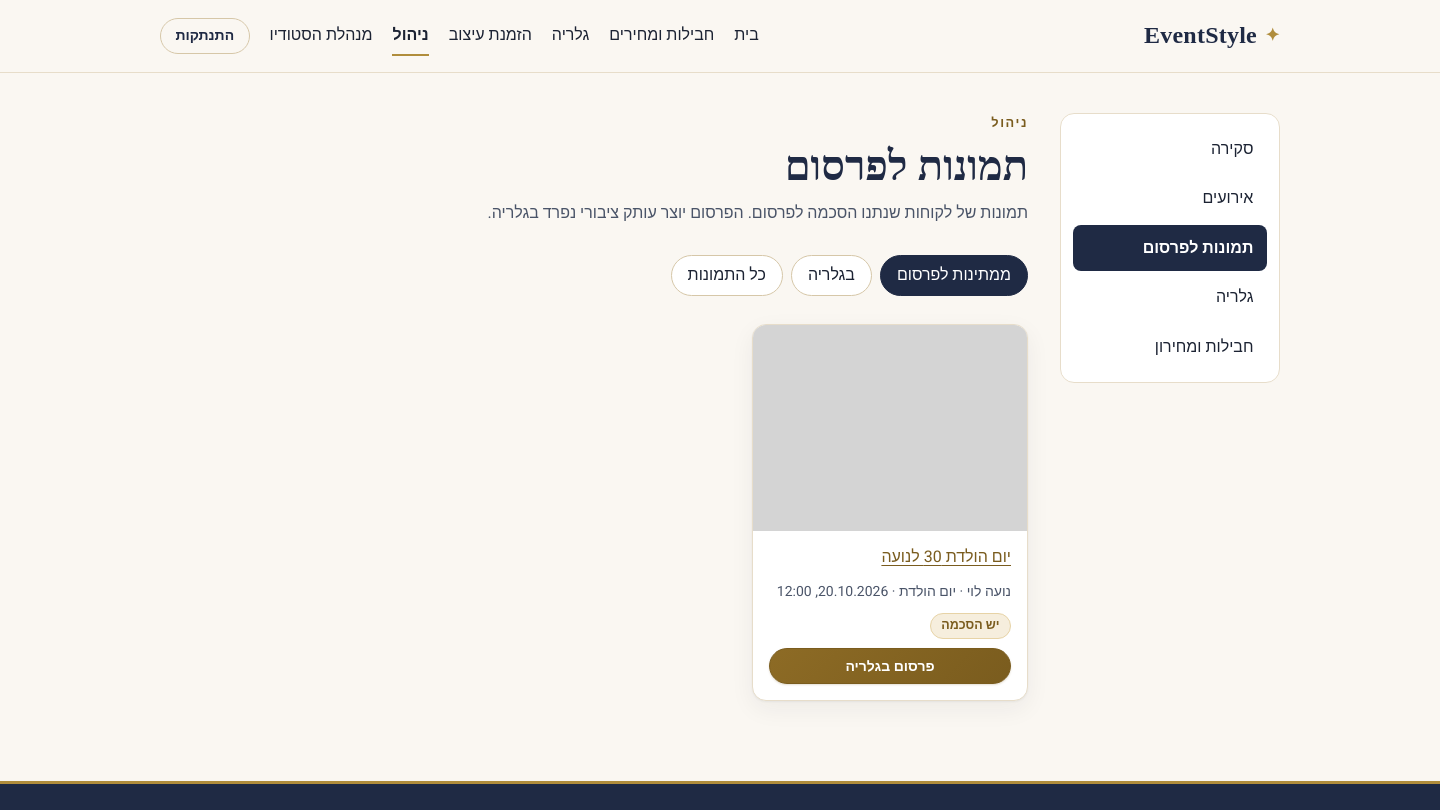
Test case: Admin: photos waiting for publication › ALREADY_PUBLISHED from the server is shown in the dialog
Click the button "פרסום בגלריה". click: (890, 666)
box: [769,648,1011,684]
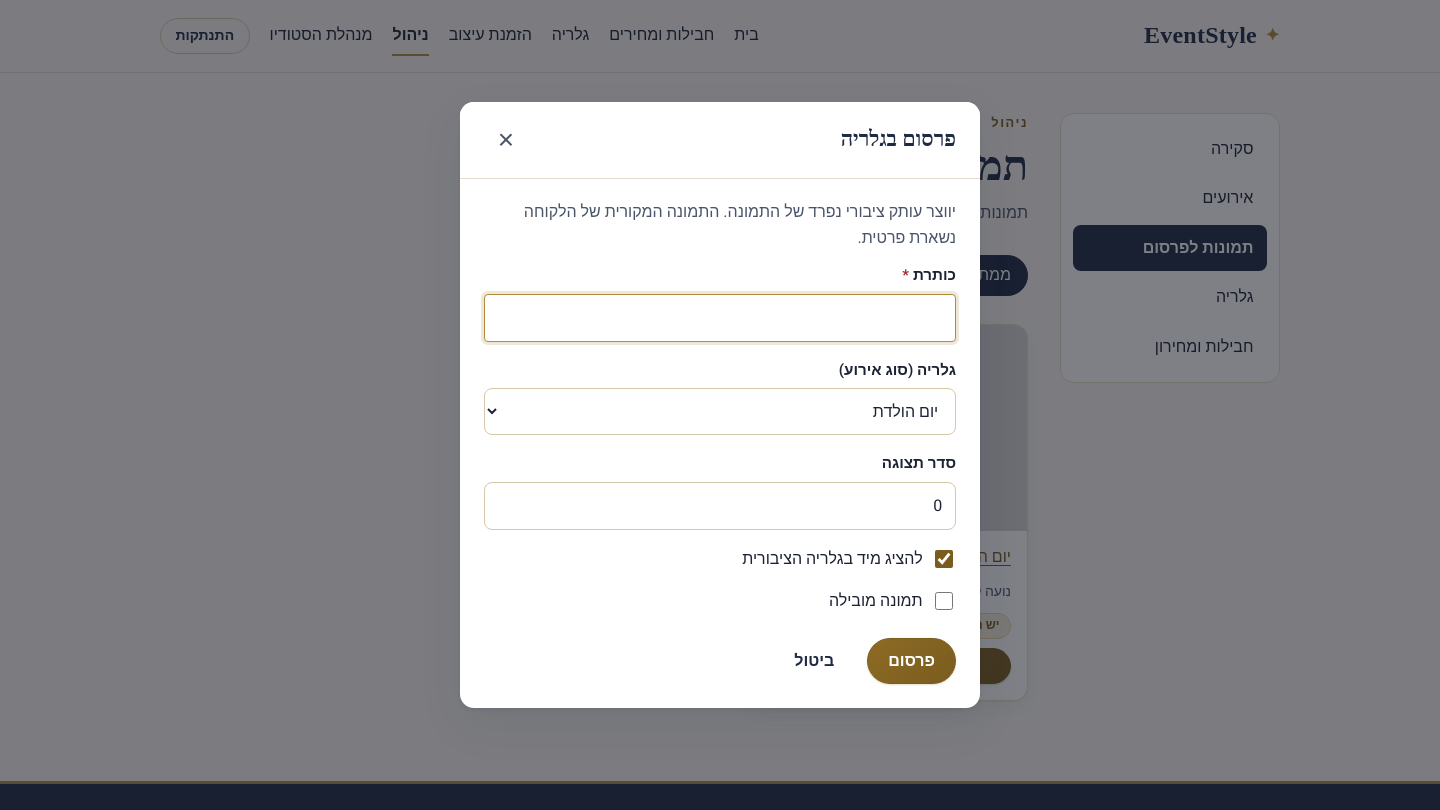
Type "כותרת" into the field labelled "כותרת *". click: (720, 318)
box: [484,294,956,342]
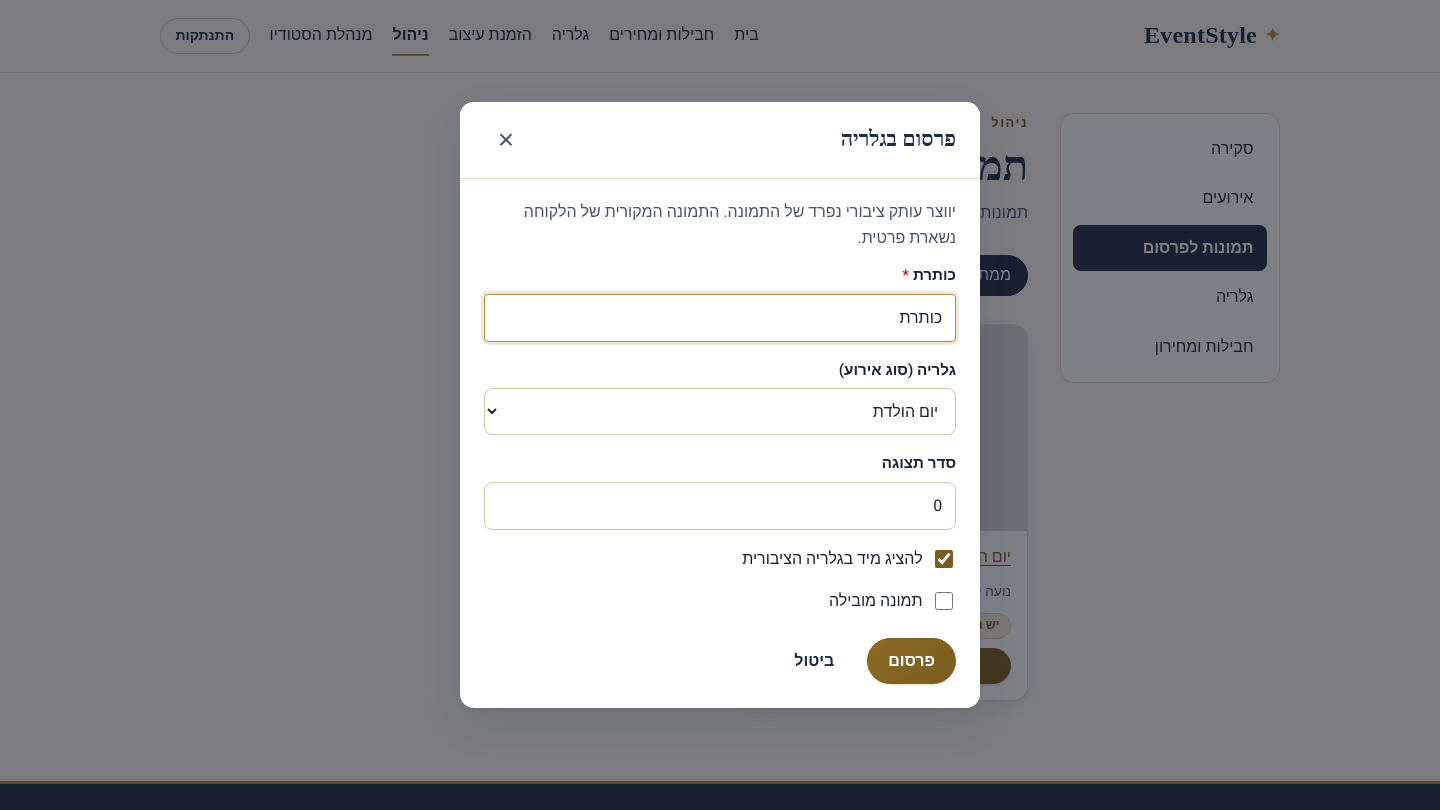
Click the button "פרסום". click: (912, 662)
box: [867,638,956,684]
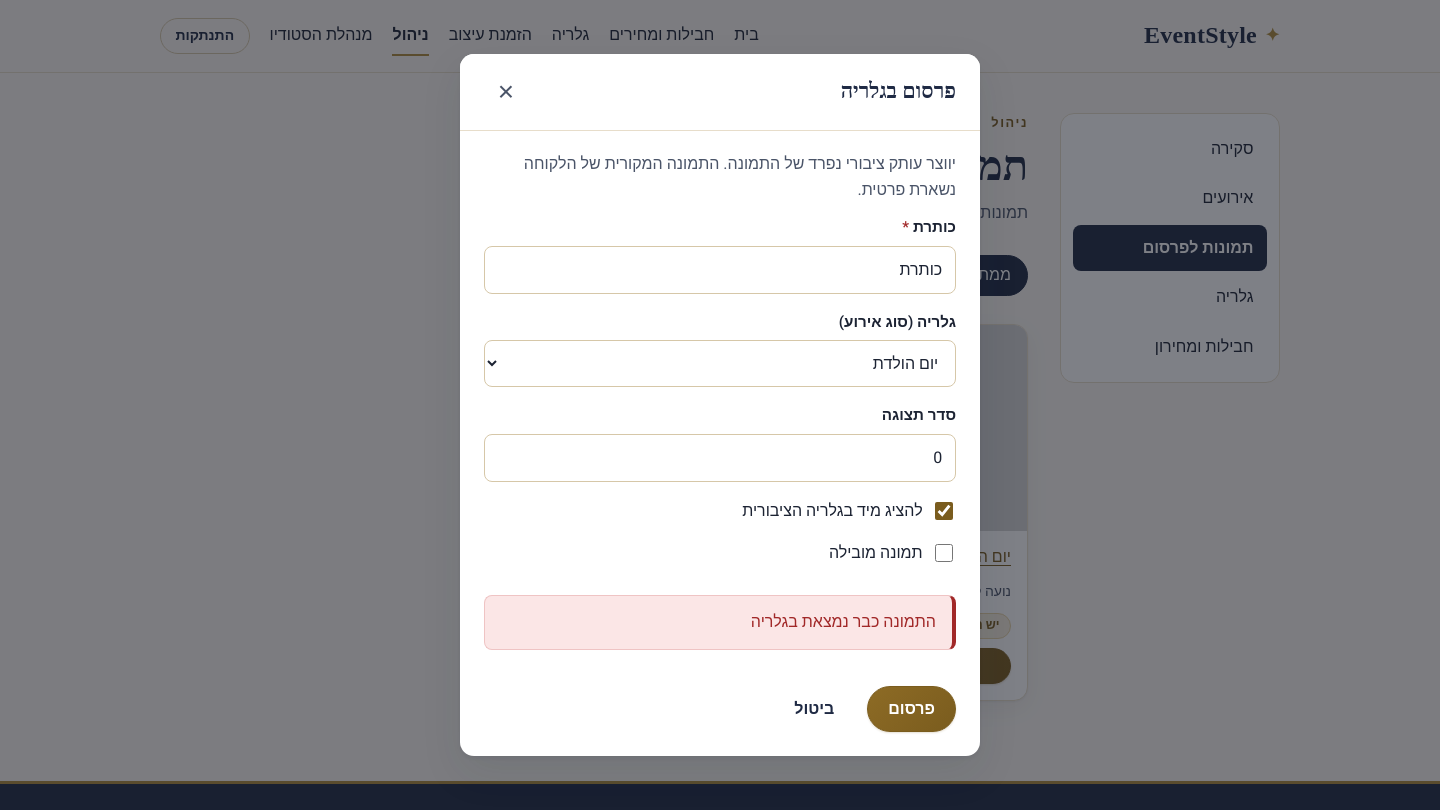
expect the text "התמונה כבר נמצאת בגלריה" is shown: met, box [751,610,936,634]
